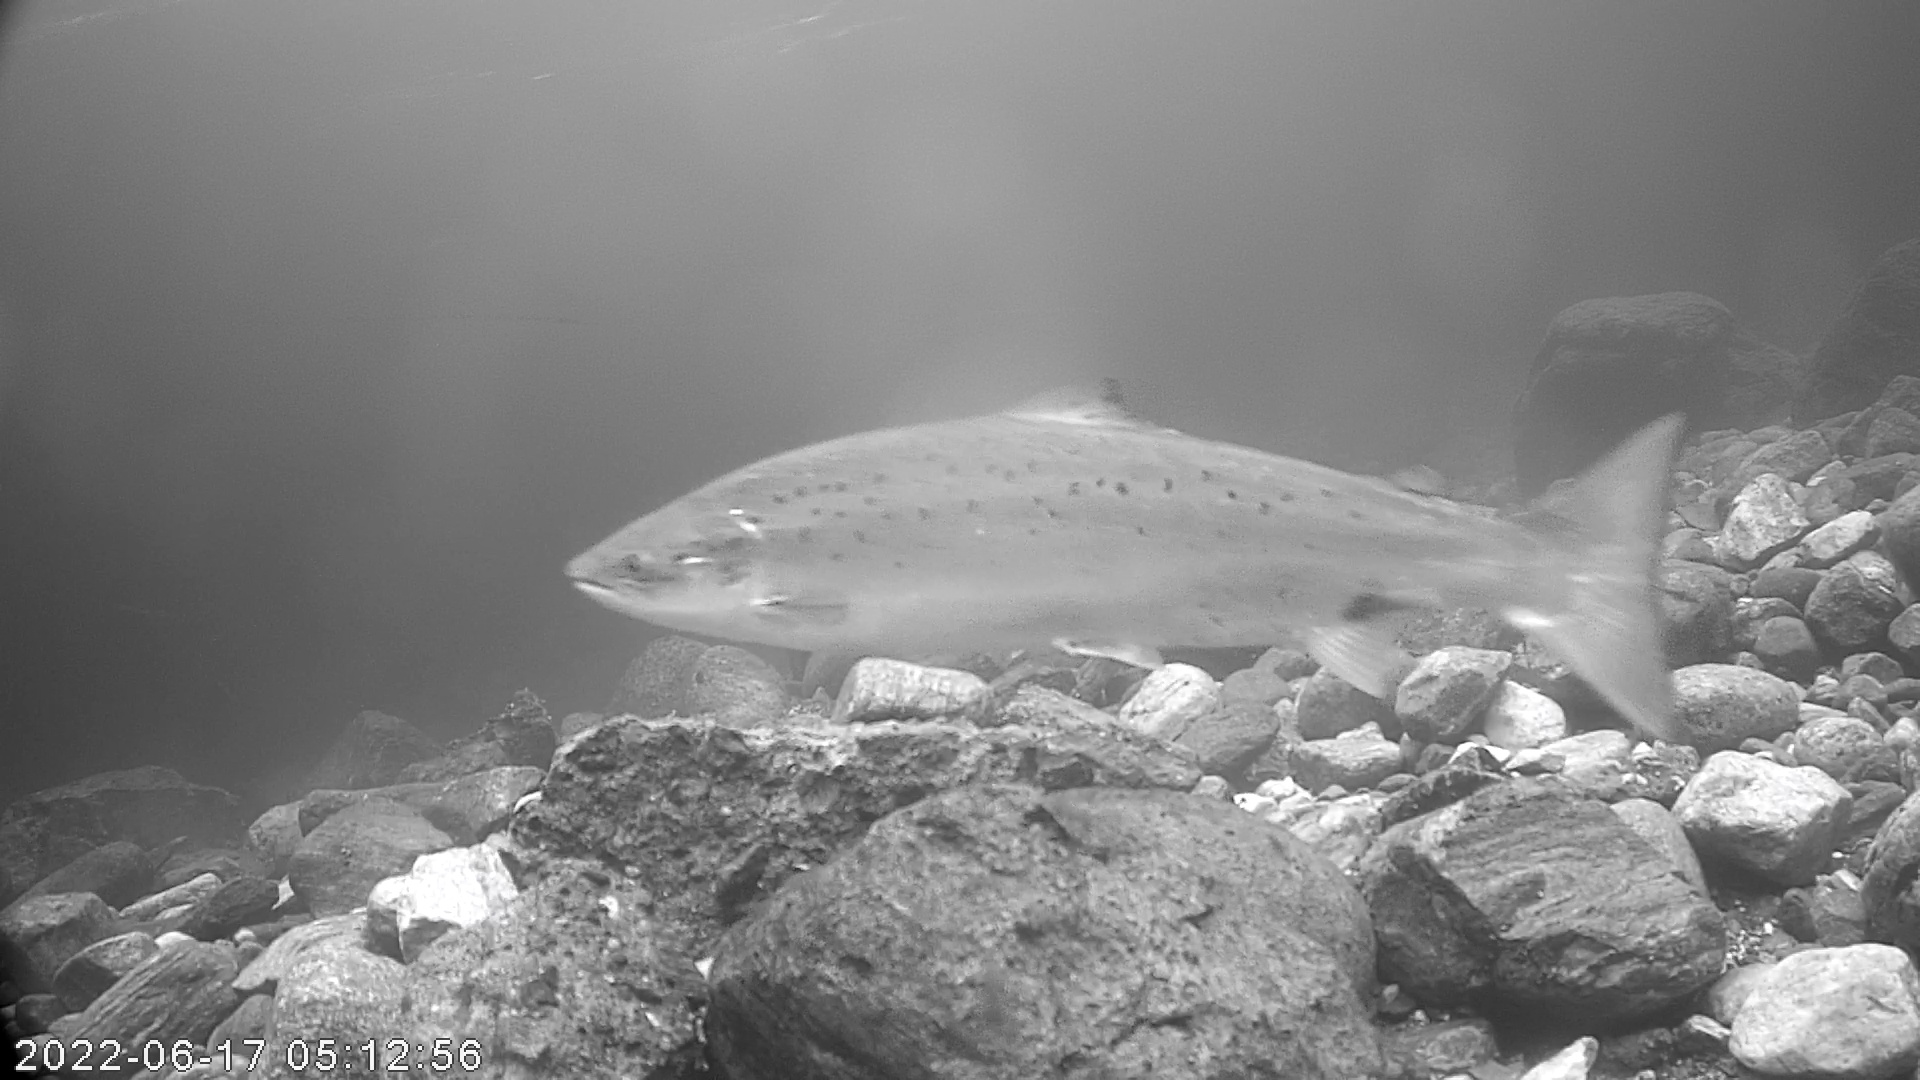salmon: (558, 367, 1687, 744)
